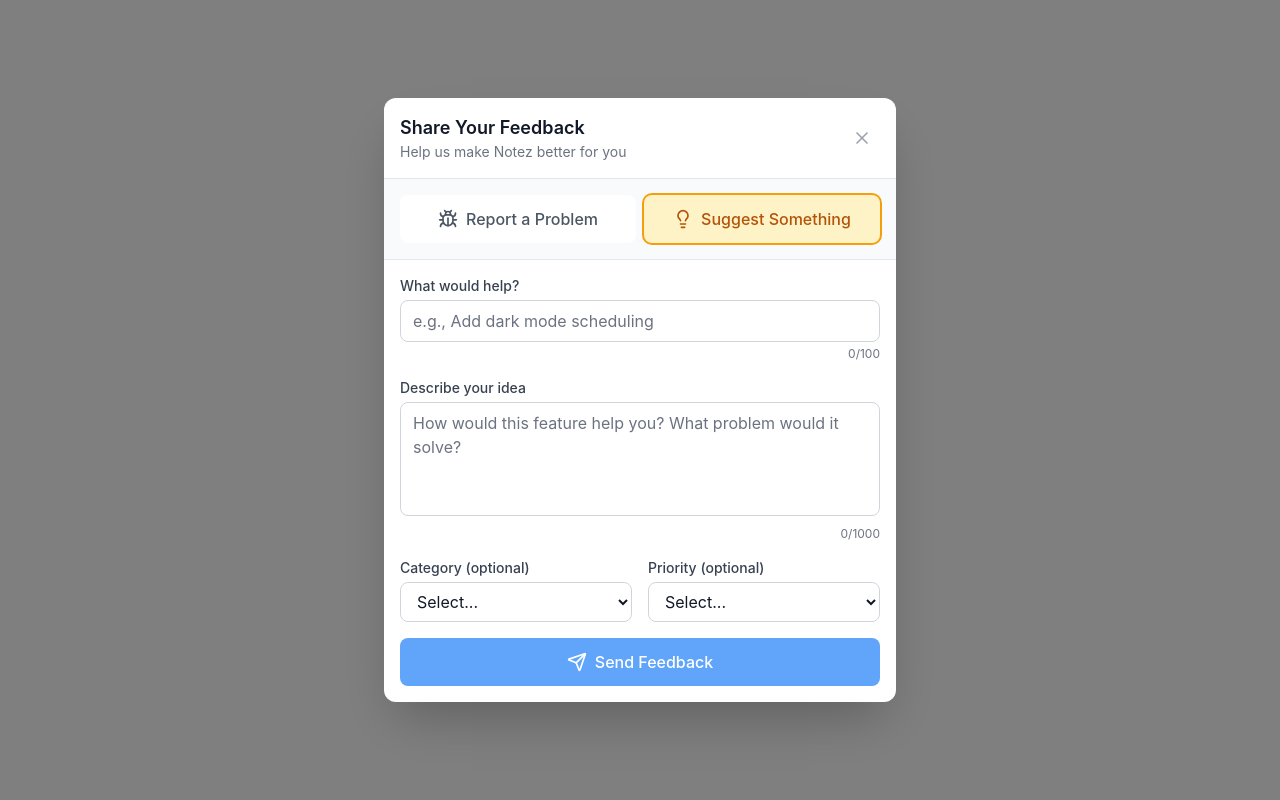
Test: FeedbackModal › should show network error message when request fails without response
This screenshot has width=1280, height=800.
Type "New feature" into the field labelled "What would help?" at point(640, 321), box [400, 300, 880, 342]
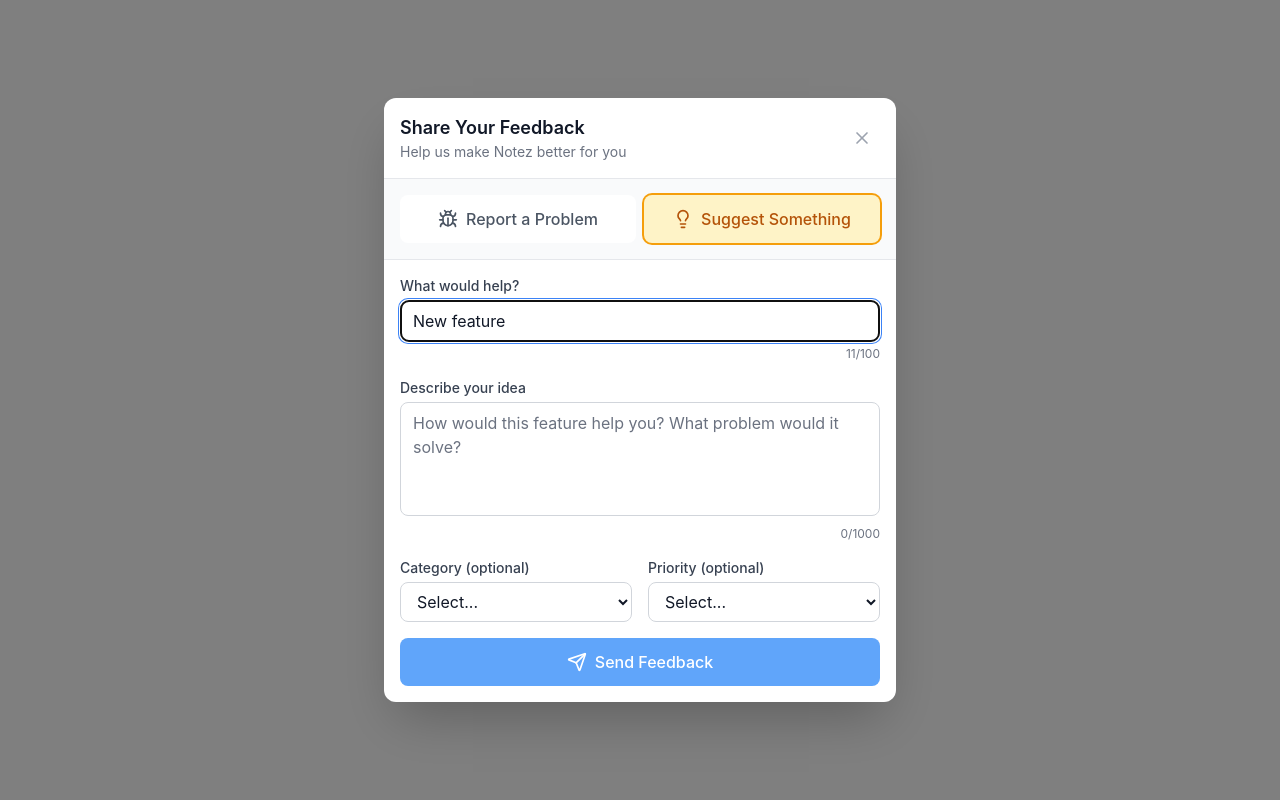
Type "Please add this" into the text box labelled "Describe your idea" at point(640, 459), box [400, 402, 880, 516]
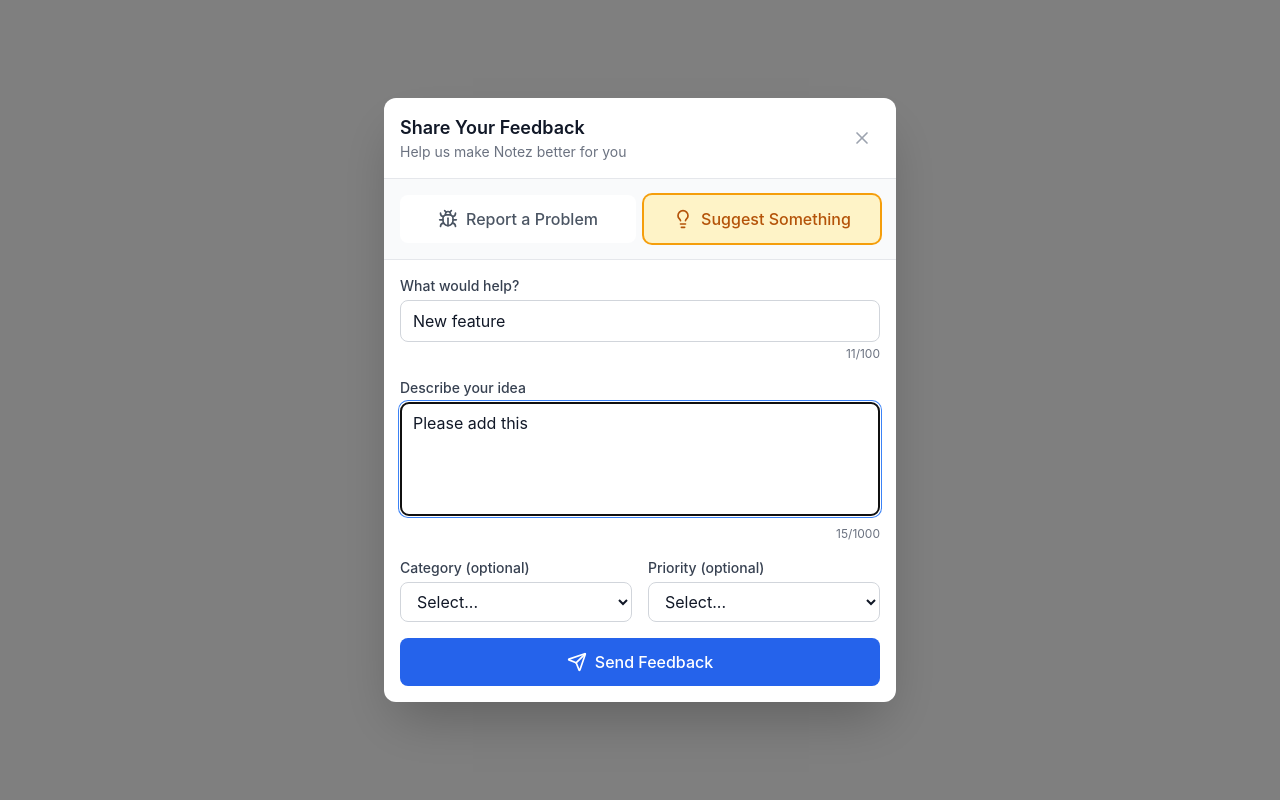
Click the button "Send Feedback" at point(640, 662), box [400, 638, 880, 686]
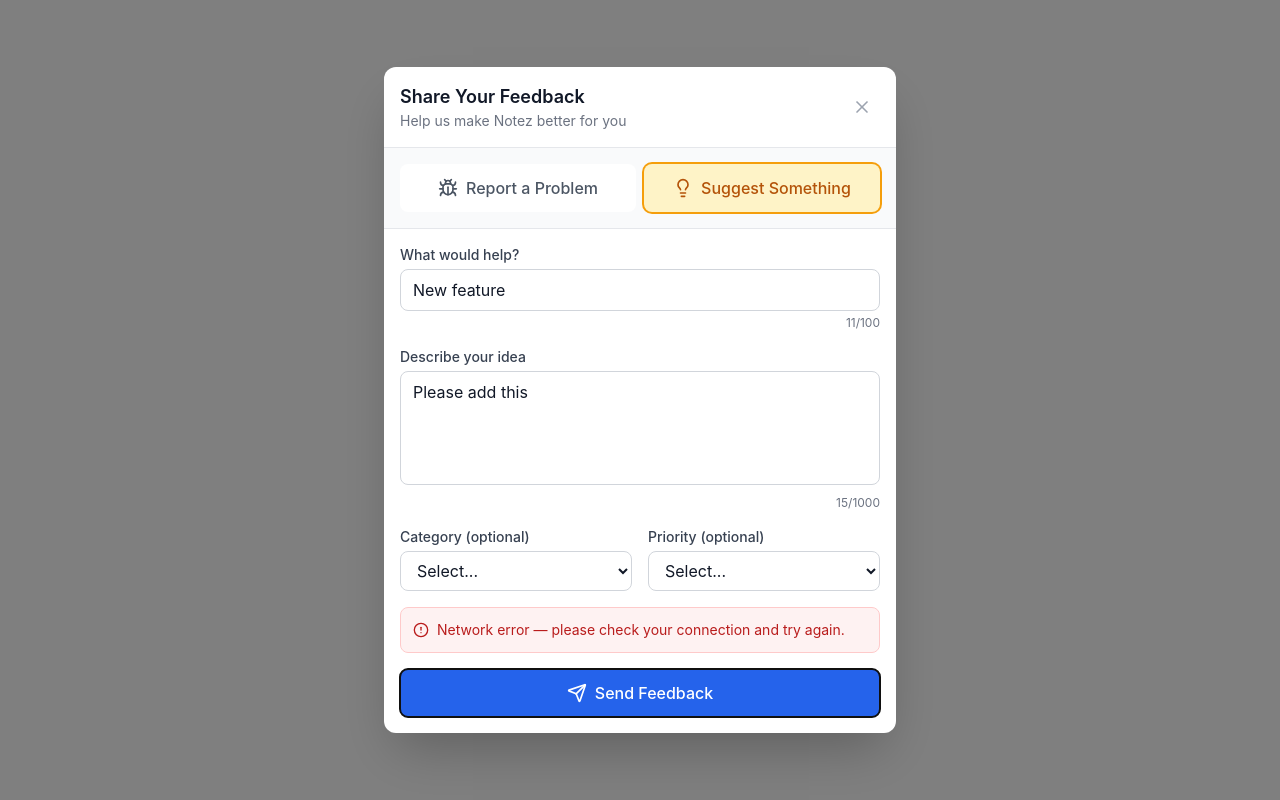
Expected: the message "Network error — please check your connection and try again." is shown, [400, 607, 880, 653]
Expected: the message shows "Network error", [437, 621, 845, 638]
